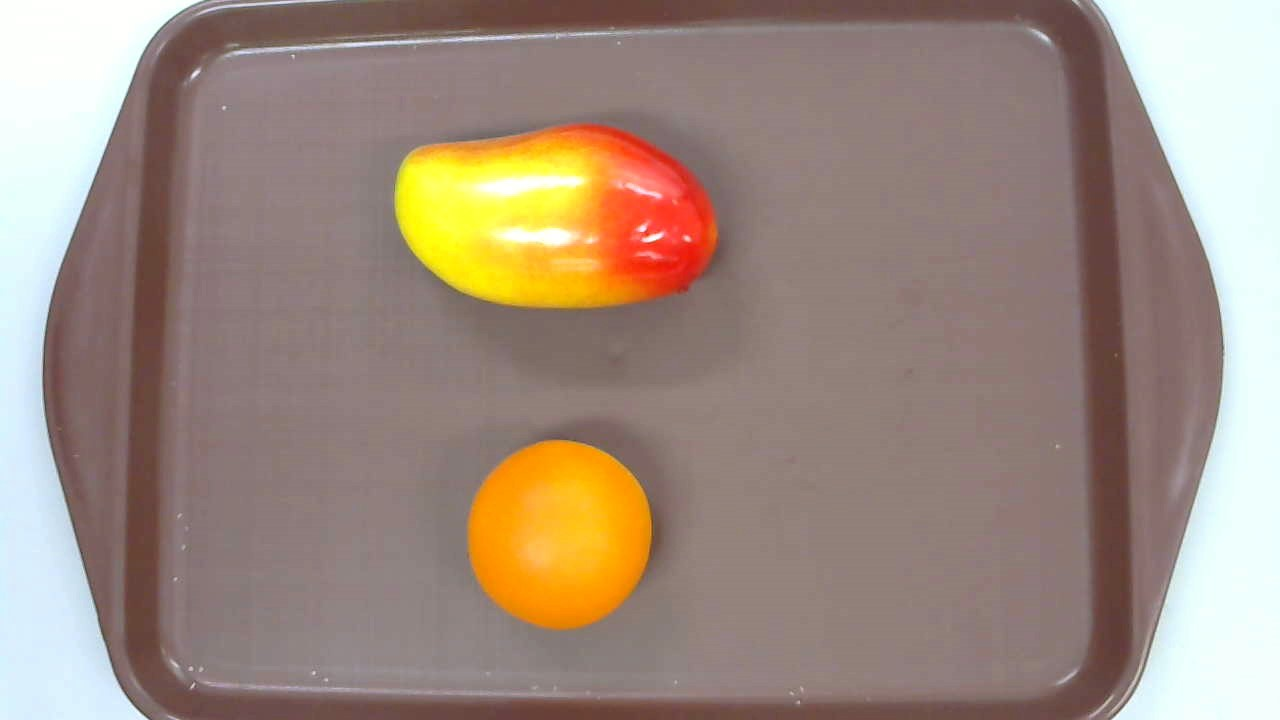bun: (468, 440, 653, 628)
red mango: (394, 122, 719, 309)
